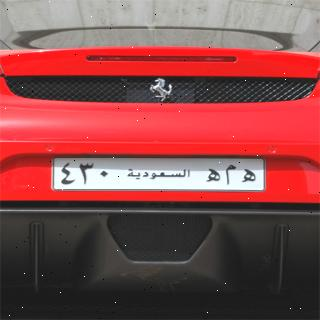license: (53, 159, 266, 192)
